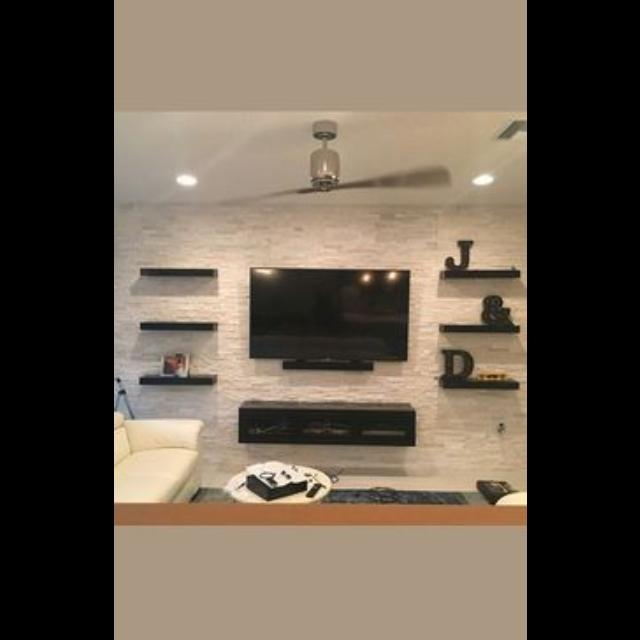Flat-Panel-TV: (248, 271, 408, 375)
